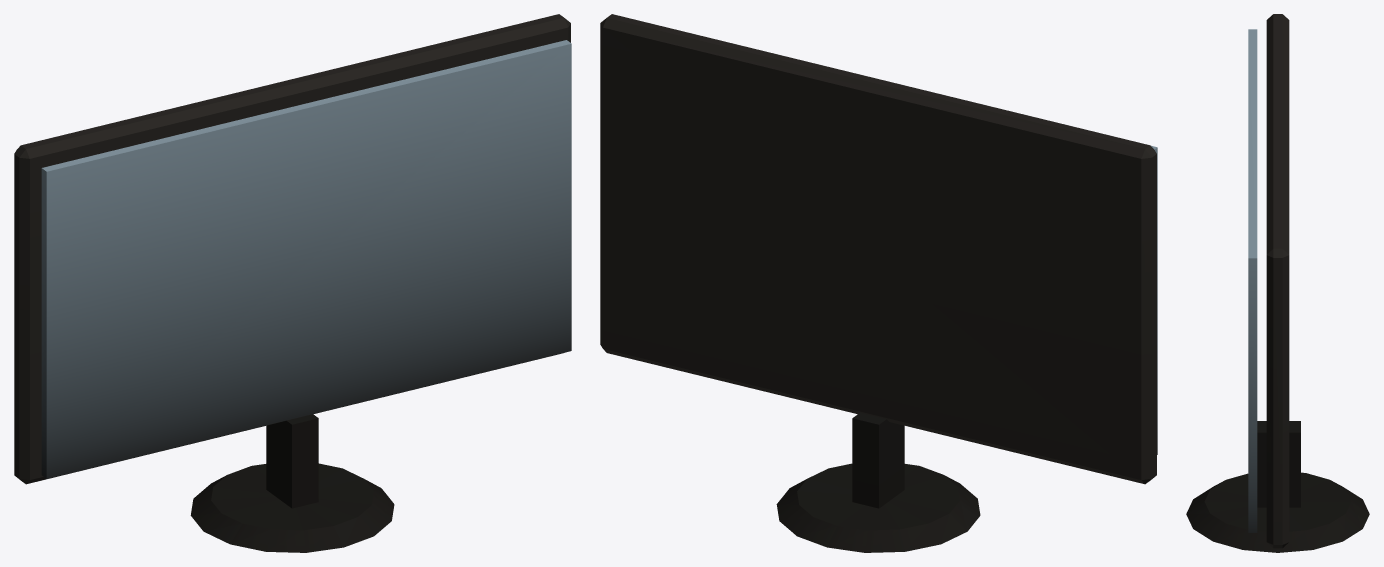
File: tv_flatscreen.glb
3 renders of one model, left to right at view 1: azimuth 30°, elevation 25°; view 2: azimuth 150°, elevation 25°; view 3: azimuth 270°, elevation 25°, orthographic. The views are drawn at different scales.
Parts seen in each view (by area): view 1: tv_flatscreen; view 2: tv_flatscreen; view 3: tv_flatscreen.
Part boxes in pixels (bbox=[...]): tv_flatscreen: bbox=[14, 14, 571, 552]; tv_flatscreen: bbox=[600, 14, 1157, 552]; tv_flatscreen: bbox=[1186, 14, 1369, 552].
Size of the model in its own units: 1.24 by 0.92 by 0.4.
